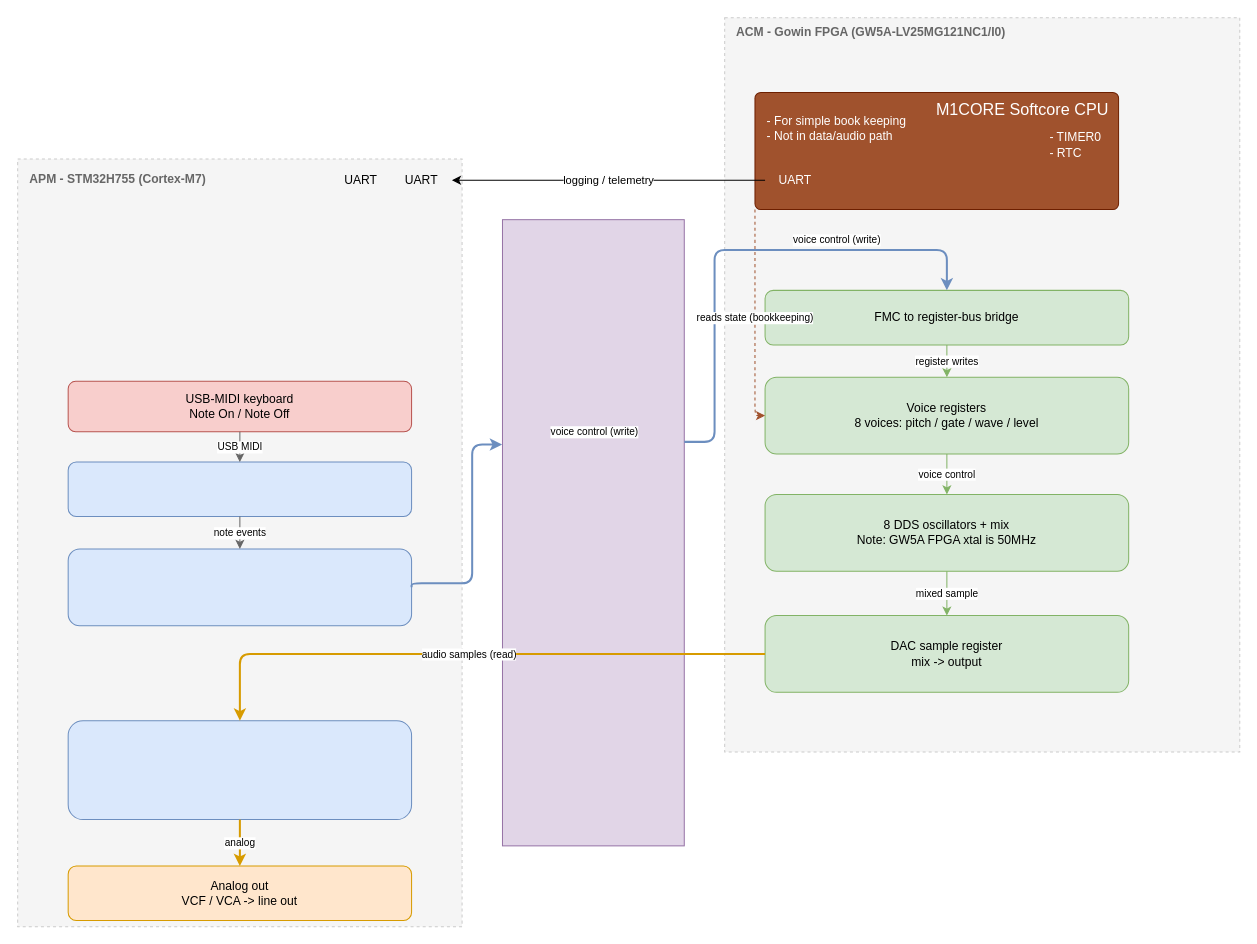
The diagram is 1257 pixels wide and 944 high, and some of its shapes have lost their labels. Each missing label, with the box of its shape:
DAC playback (DMA) no CPU in the audio path: (67, 720, 412, 820)
FMC bus: (501, 219, 684, 846)
MIDI parse + 8-voice allocation note -> pitch: (67, 548, 412, 626)
USB MIDI host: (67, 461, 412, 517)
